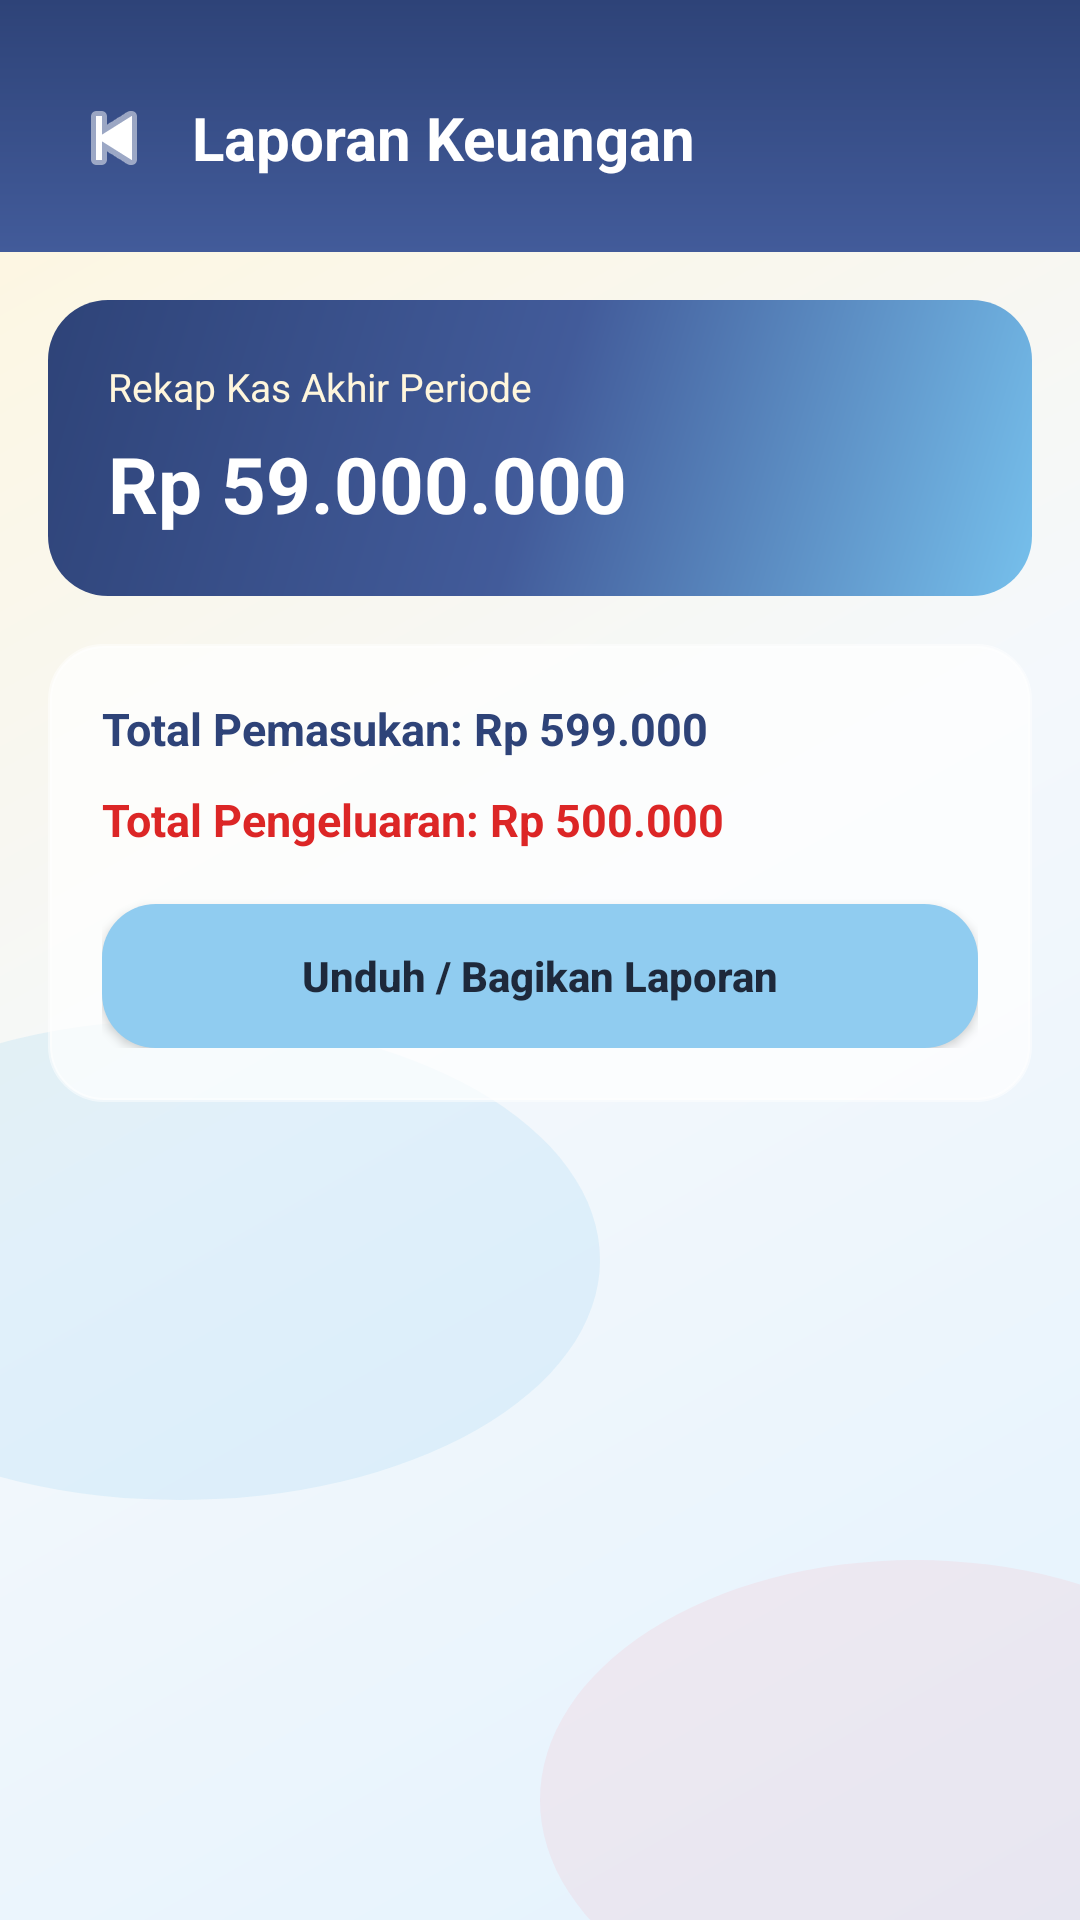

Screen size 1080 × 1920. Icon name, then its box in pixels as (x1, y1, x2, y2):
Kembali: (91, 111, 137, 165)
